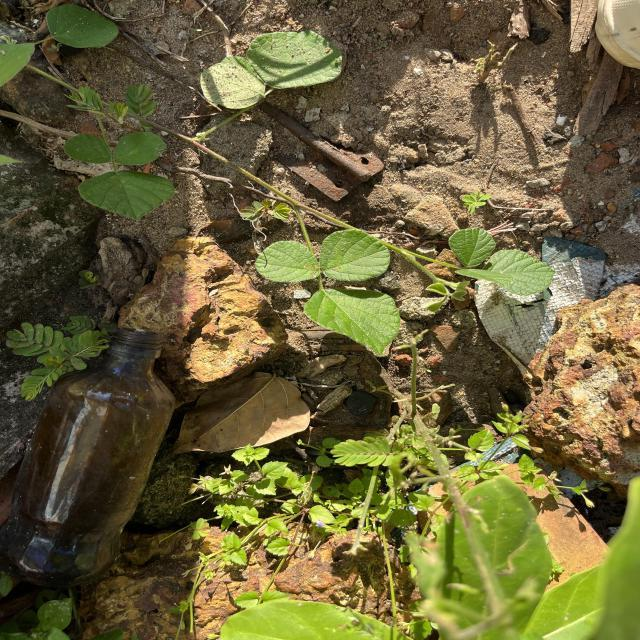Pseudarthria viscida: (252, 228, 402, 357), (61, 130, 176, 222)
